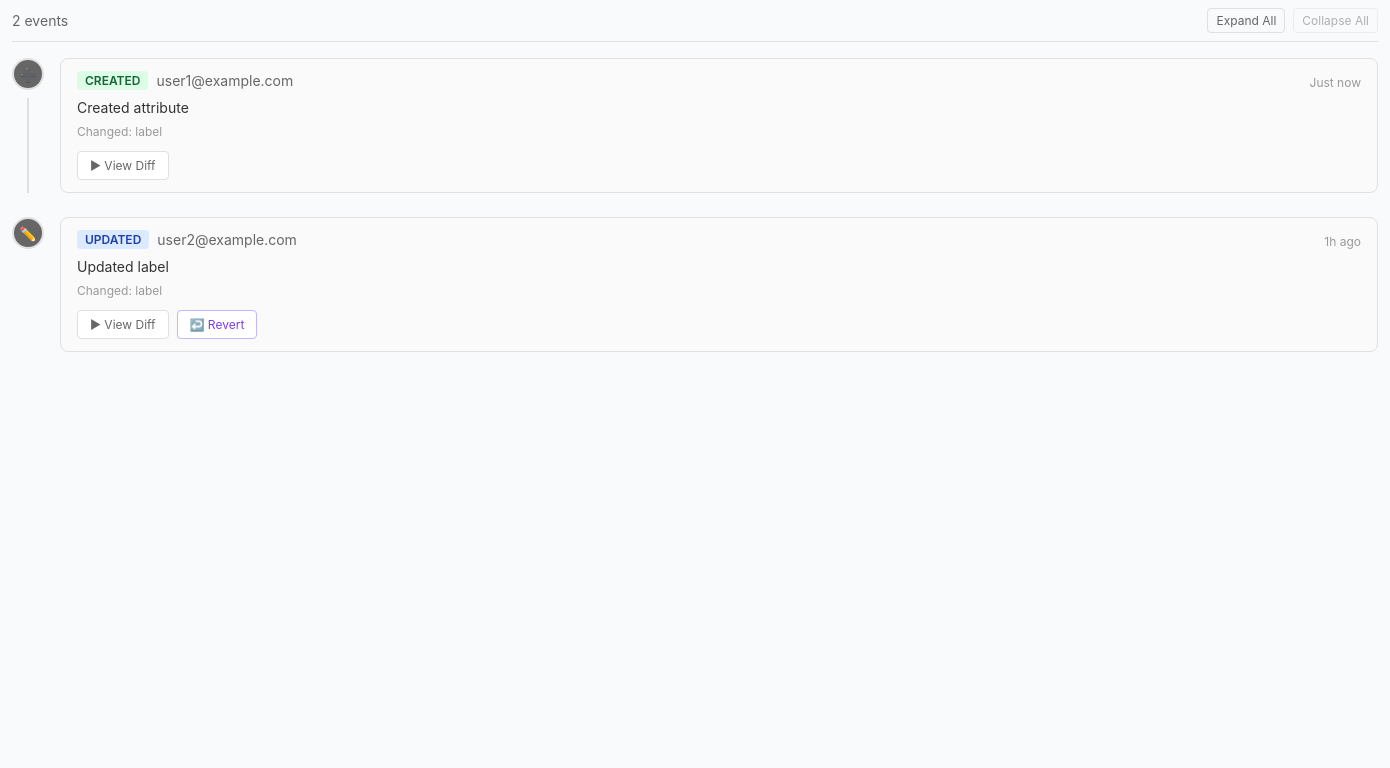
AuditTimeline › should collapse all events when Collapse All clicked
Note: First expand all
Click the button "Expand All".
click(1246, 20)  # box [1208,8,1285,33]
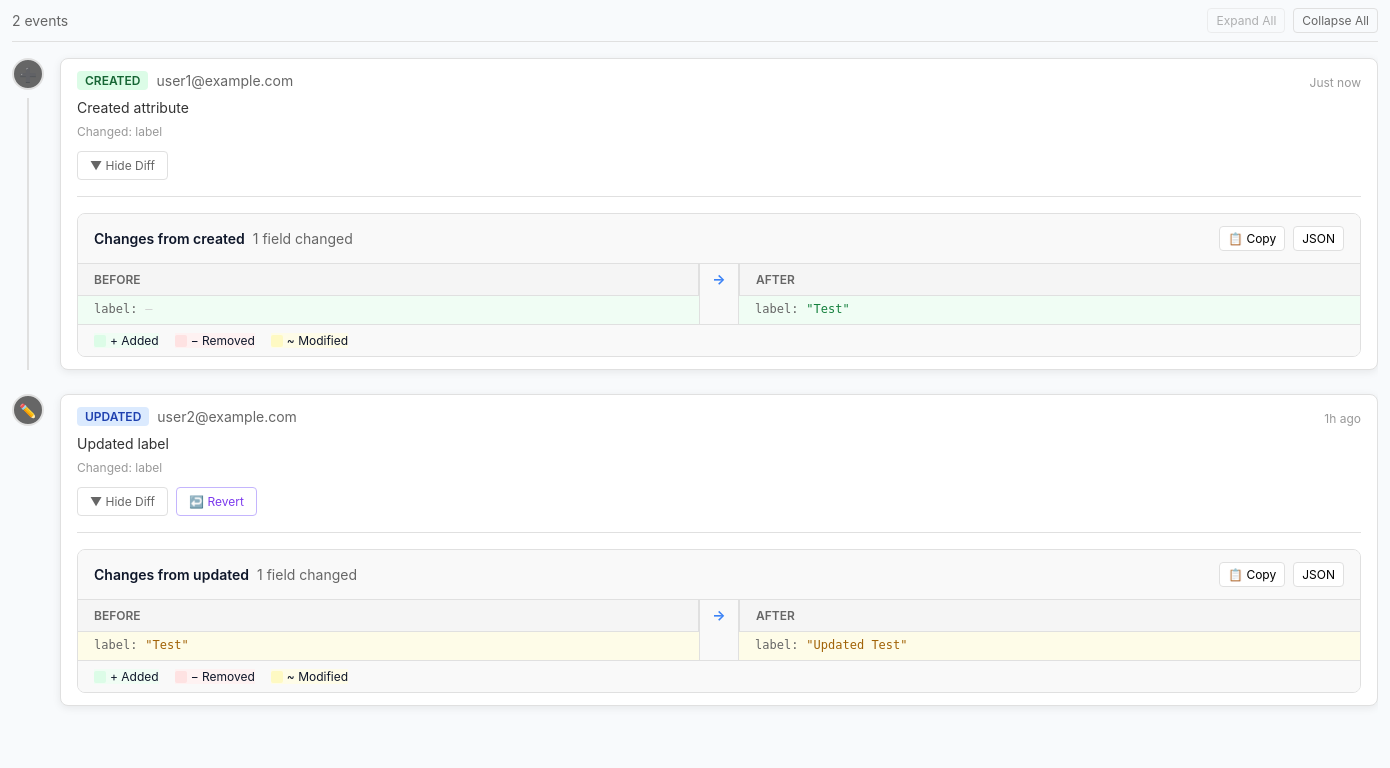
Note: Then collapse all
Click the button "Collapse All".
click(1336, 20)  # box [1293,8,1378,33]
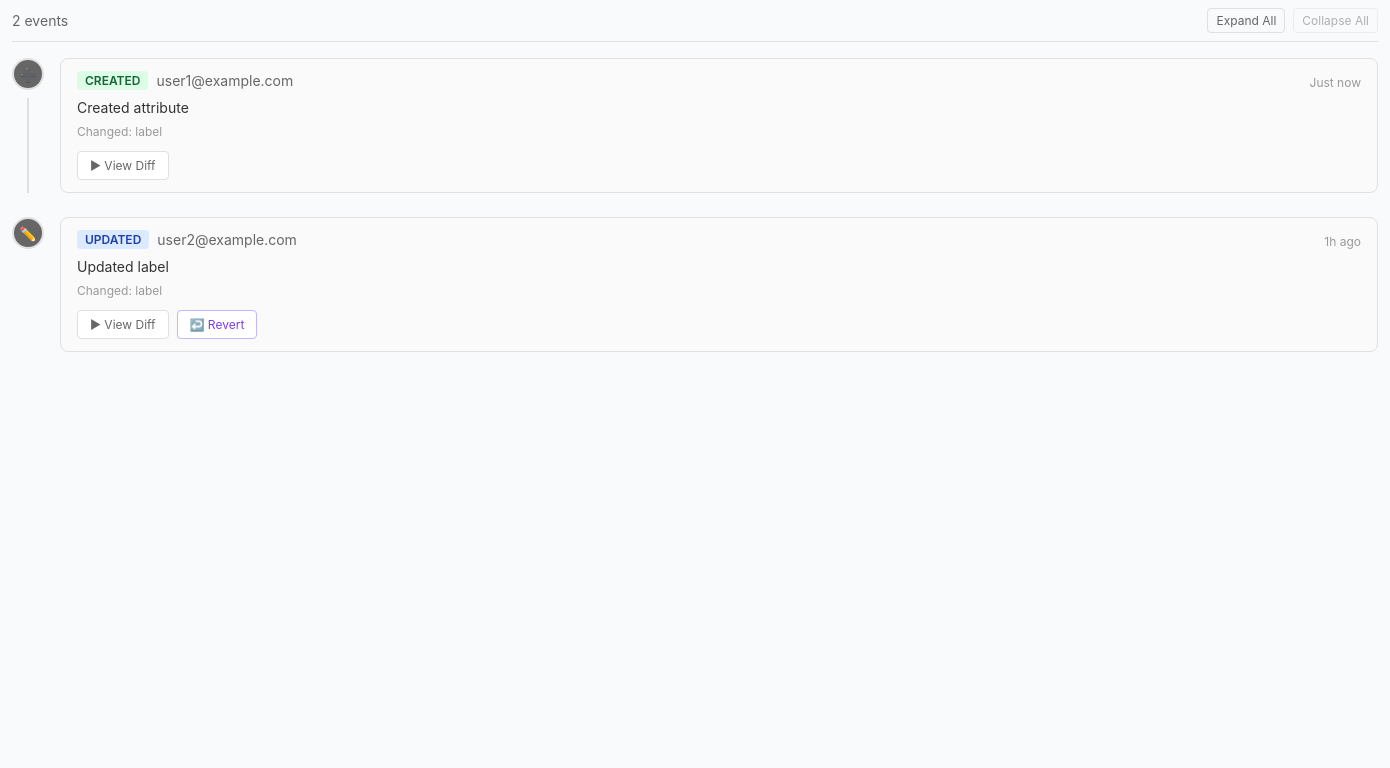
Expected: the button "▶ View Diff" below "Created attribute" is shown, [77,151,168,180]
